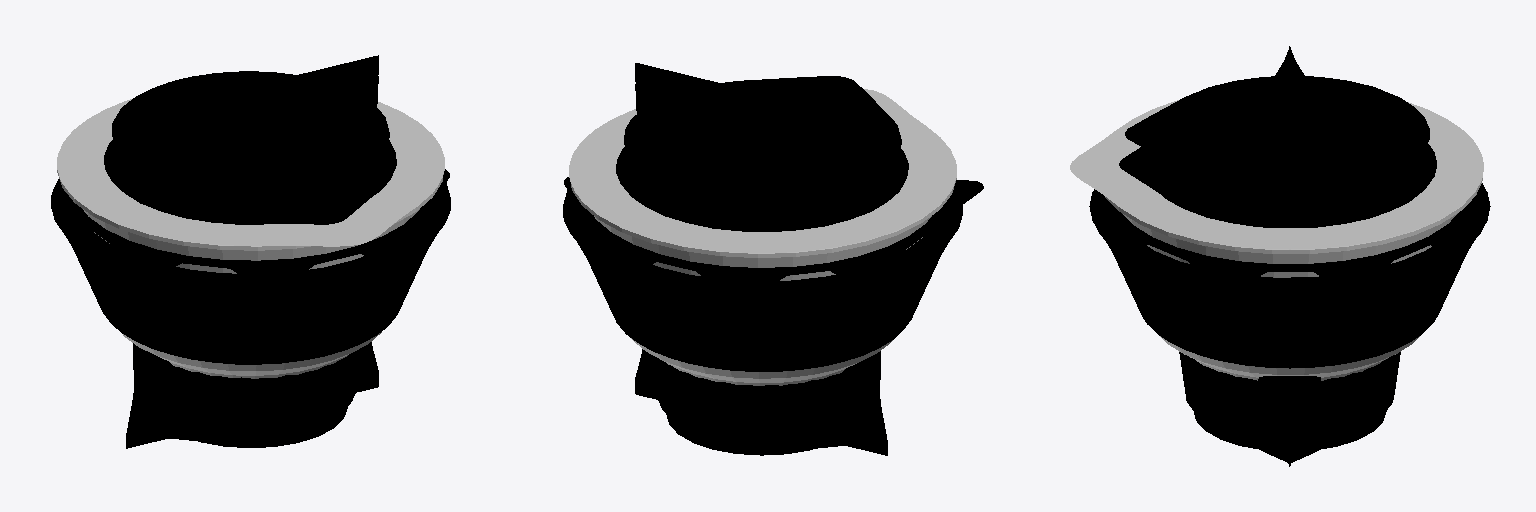
The model's file is donbe.obj.
3 renders of one model, left to right at view 1: azimuth 30°, elevation 25°; view 2: azimuth 150°, elevation 25°; view 3: azimuth 270°, elevation 25°, orthographic.
Parts seen in each view (by area): view 1: UFO_B, donbeB, Cup_NoodleB, ChickenRamenB, curry_meshiB, raohB, sisucorn_BIG; view 2: UFO_B, donbeB, Cup_NoodleB, ChickenRamenB, curry_meshiB, raohB, sisucorn_BIG, GRANOLA; view 3: UFO_B, Cup_NoodleB, donbeB, curry_meshiB, ChickenRamenB, raohB.
Boxes of the visible parts, <box> form: UFO_B: <box>51,179,450,364</box>; donbeB: <box>57,99,444,378</box>; Cup_NoodleB: <box>112,71,389,447</box>; ChickenRamenB: <box>126,55,378,448</box>; curry_meshiB: <box>104,140,396,433</box>; raohB: <box>52,169,449,276</box>; sisucorn_BIG: <box>123,76,378,433</box>; UFO_B: <box>563,192,962,371</box>; donbeB: <box>569,89,956,385</box>; Cup_NoodleB: <box>624,76,901,455</box>; ChickenRamenB: <box>635,63,887,455</box>; curry_meshiB: <box>616,147,908,441</box>; raohB: <box>564,177,983,284</box>; sisucorn_BIG: <box>635,84,890,441</box>; GRANOLA: <box>637,92,889,448</box>; UFO_B: <box>1089,183,1490,368</box>; Cup_NoodleB: <box>1125,76,1429,450</box>; donbeB: <box>1070,100,1483,380</box>; curry_meshiB: <box>1119,144,1436,437</box>; ChickenRamenB: <box>1258,46,1321,466</box>; raohB: <box>1102,194,1476,275</box>.
Bounding box in the file's own units: 2.91 × 2.66 × 3.06.